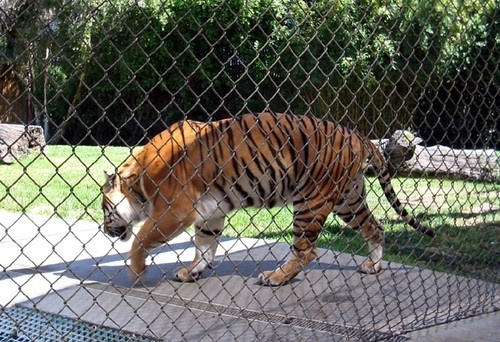tigre: (97, 107, 441, 293)
